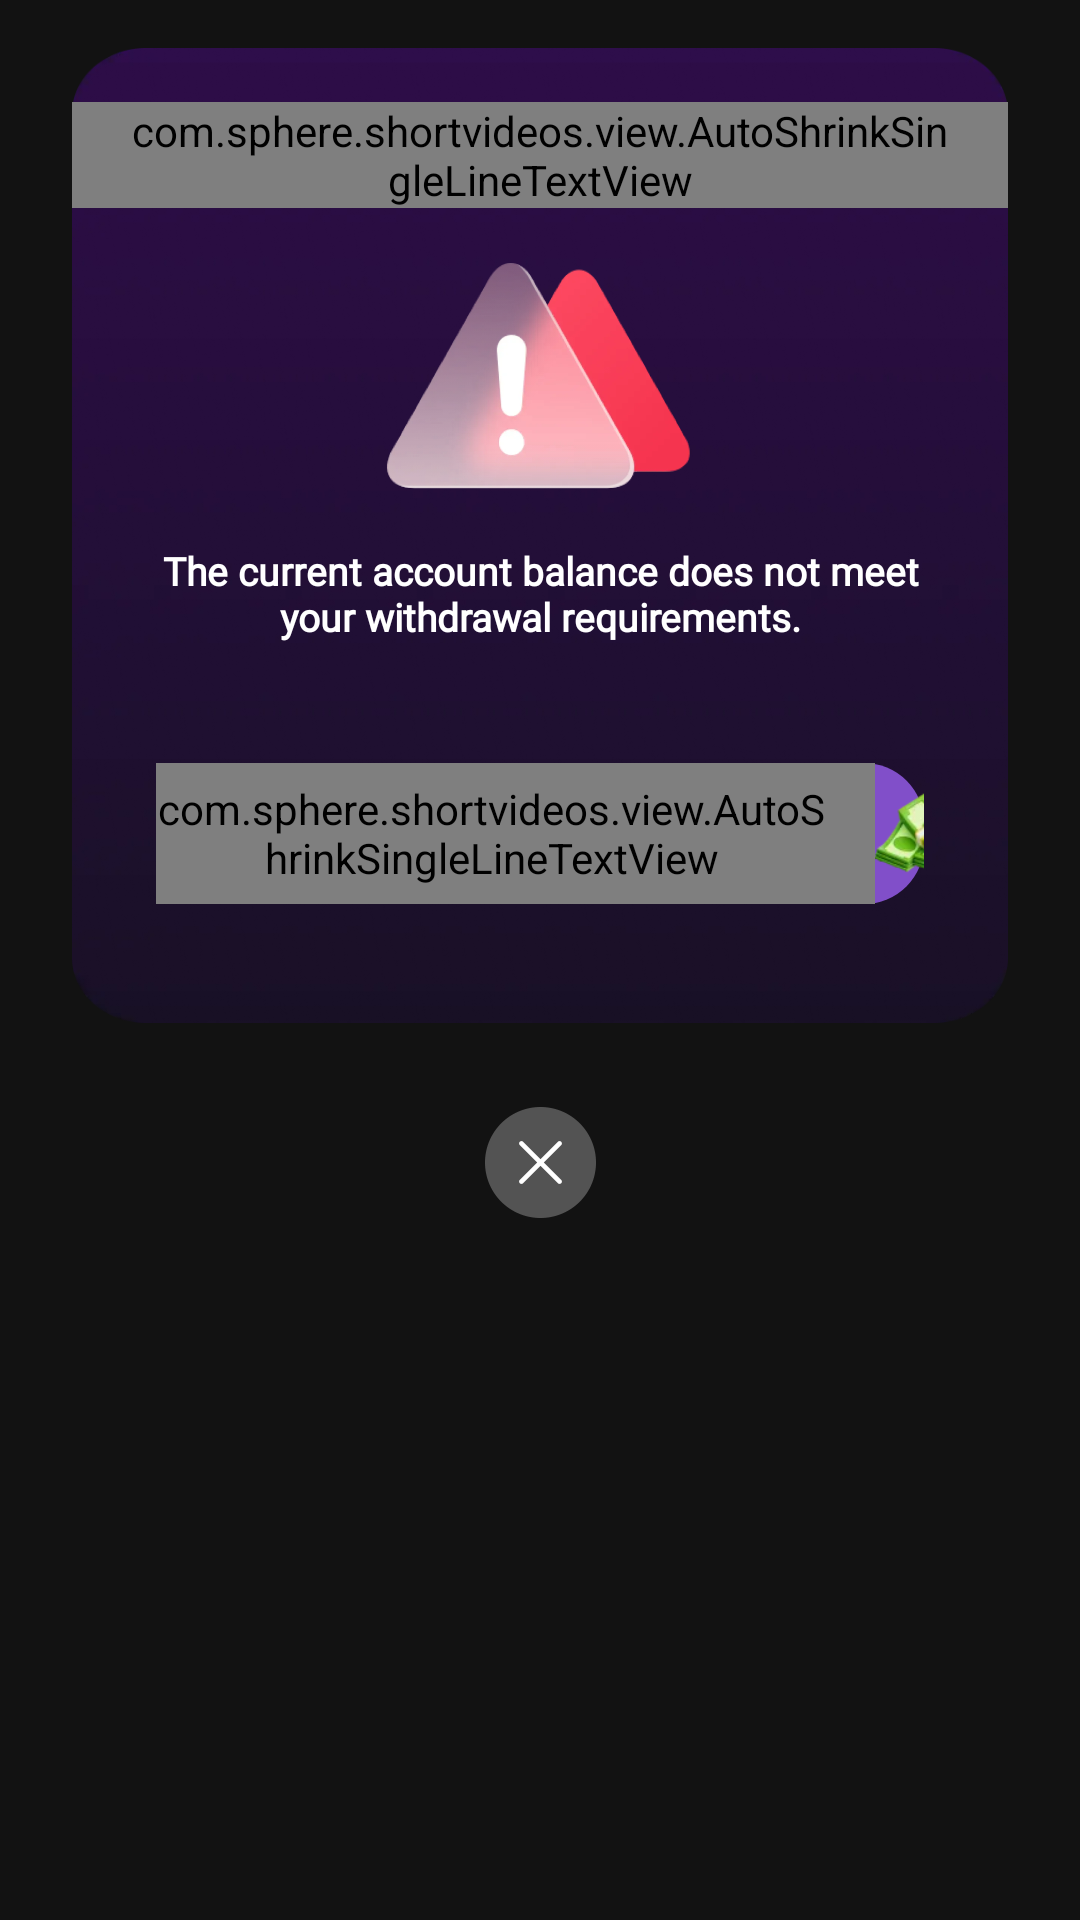

Icons on this 1080*1920 Android screen, each with the point to tap as (x,y):
close: (540,1162)
